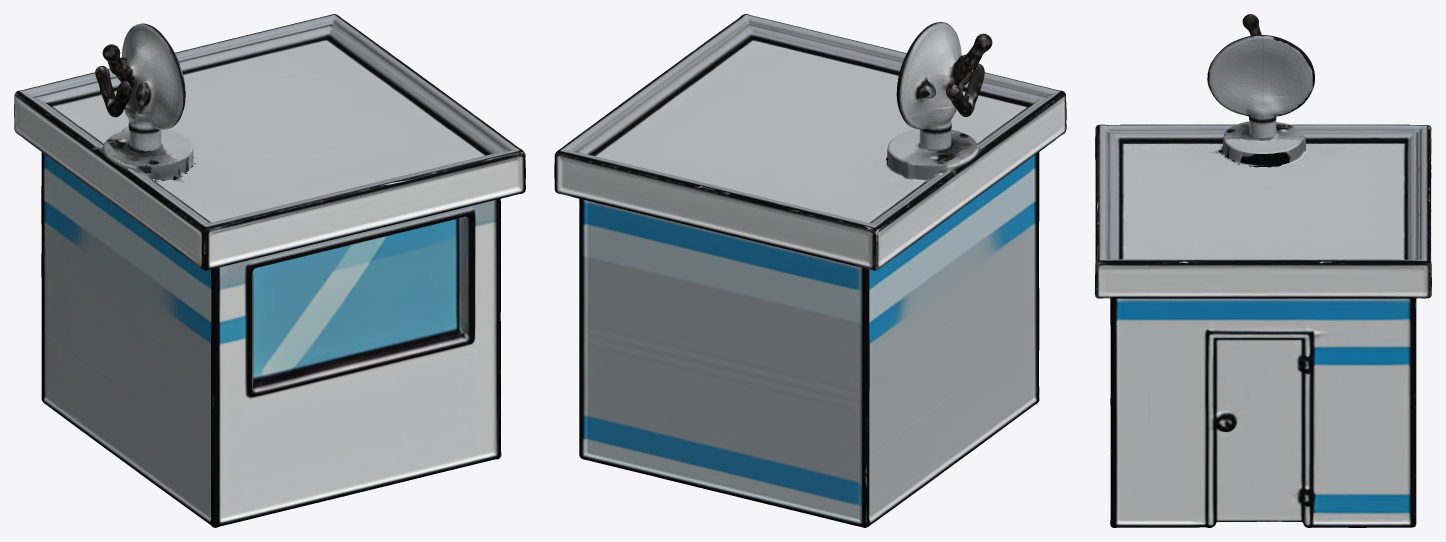
The model's file is spaceport_building.glb.
3 views of the same model, side by side, from view 1: azimuth 30°, elevation 25°; view 2: azimuth 150°, elevation 25°; view 3: azimuth 270°, elevation 25° (orthographic). The views are drawn at different scales.
Visible parts, largest first — view 1: tmp595iu1gm.ply; view 2: tmp595iu1gm.ply; view 3: tmp595iu1gm.ply.
Part boxes in pixels (x1,y1,x2,y2): tmp595iu1gm.ply: (14,14,525,527); tmp595iu1gm.ply: (554,14,1066,527); tmp595iu1gm.ply: (1095,14,1431,527).
Bounding box in the file's own units: 1.62 × 2 × 1.6.
Materials: 1 (1 with a texture image).
